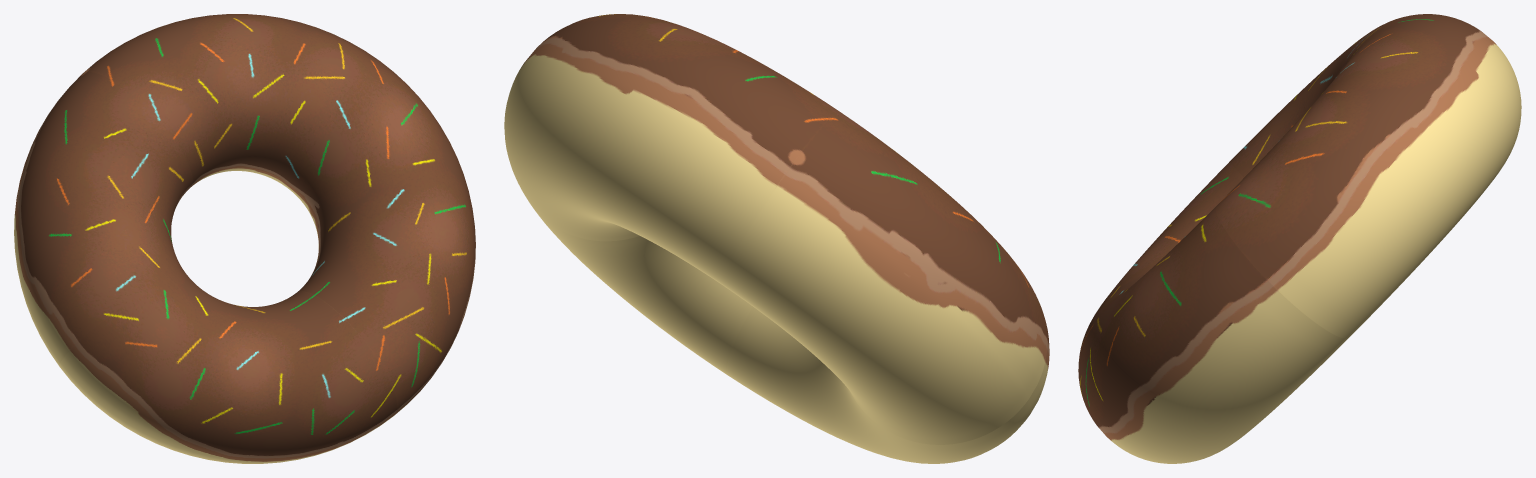
The picture shows the model from 3 angles, left to right: view 1: azimuth 30°, elevation 25°; view 2: azimuth 150°, elevation 25°; view 3: azimuth 270°, elevation 25°; orthographic projection. The views are drawn at different scales.
Visible parts, largest first — view 1: donut; view 2: donut; view 3: donut.
Boxes of the visible parts, box(x1,y1,x2,y2) form: donut: box(14, 14, 475, 463); donut: box(504, 14, 1049, 463); donut: box(1078, 14, 1521, 463).
Bounding box in the file's own units: 470 × 401 × 385.
Materials: 1 (1 with a texture image).
